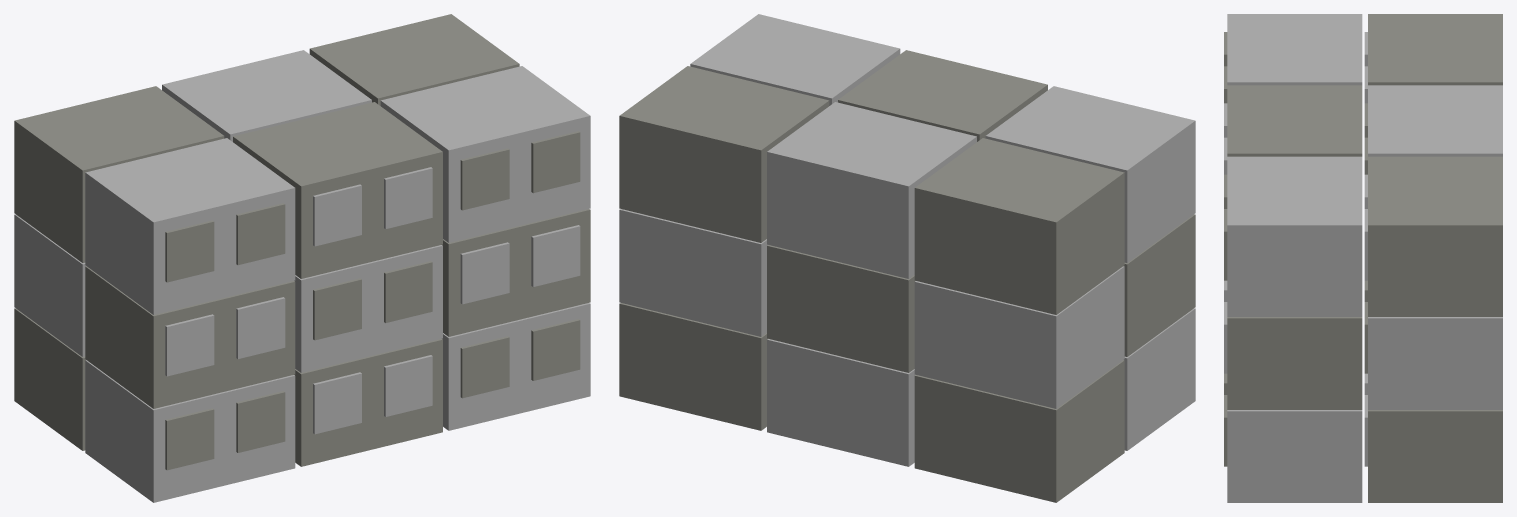
File: SM_Palots_v1_Bloque_LOD0.fbx
3 views of the same model, side by side, from view 1: azimuth 30°, elevation 25°; view 2: azimuth 150°, elevation 25°; view 3: azimuth 270°, elevation 25° (orthographic).
Parts seen in each view (by area): view 1: SM_viveres_nules_v21_LOD0; view 2: SM_viveres_nules_v21_LOD0; view 3: SM_viveres_nules_v21_LOD0.
Boxes of the visible parts, <box> form: SM_viveres_nules_v21_LOD0: <box>14,14,590,502</box>; SM_viveres_nules_v21_LOD0: <box>619,14,1195,502</box>; SM_viveres_nules_v21_LOD0: <box>1224,14,1502,502</box>.
Bounding box in the file's own units: 3.7 × 2.27 × 2.07.
